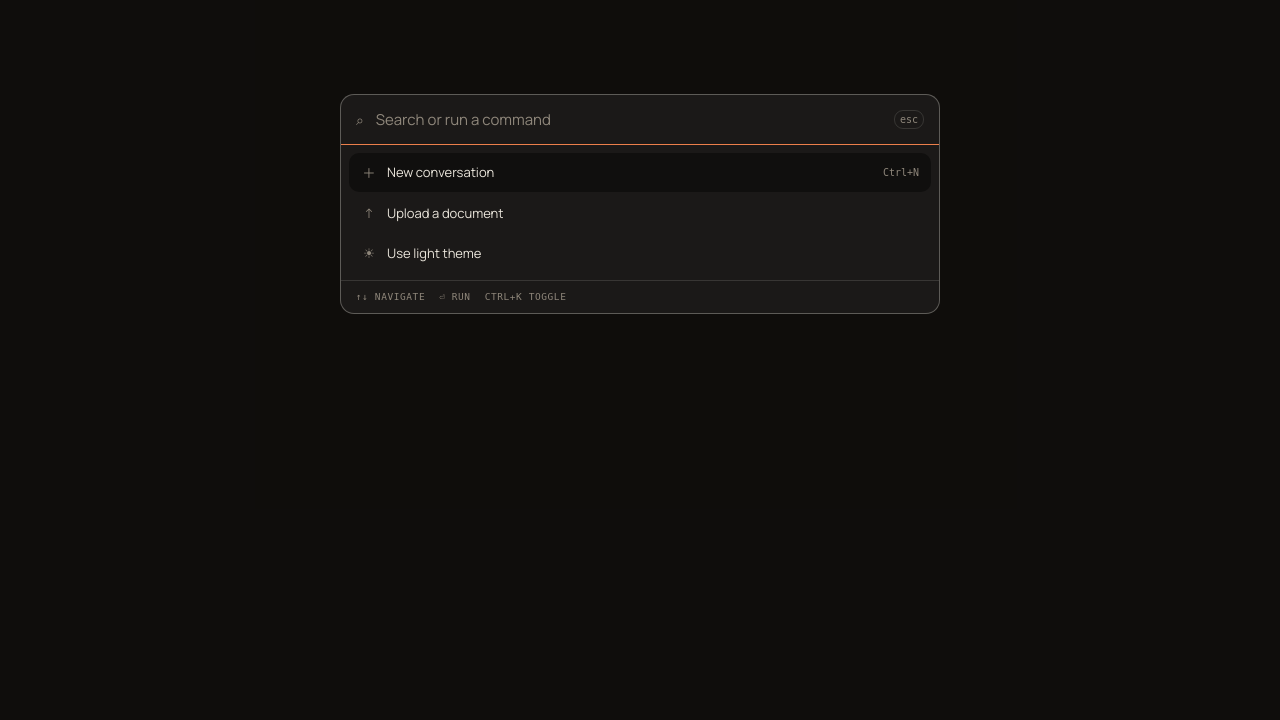
Scenario: CommandPalette › shows an empty state when nothing matches
Step 1. Type "zzzz" into the dropdown with test id "palette-input" → (629, 119), box [374, 108, 884, 131]
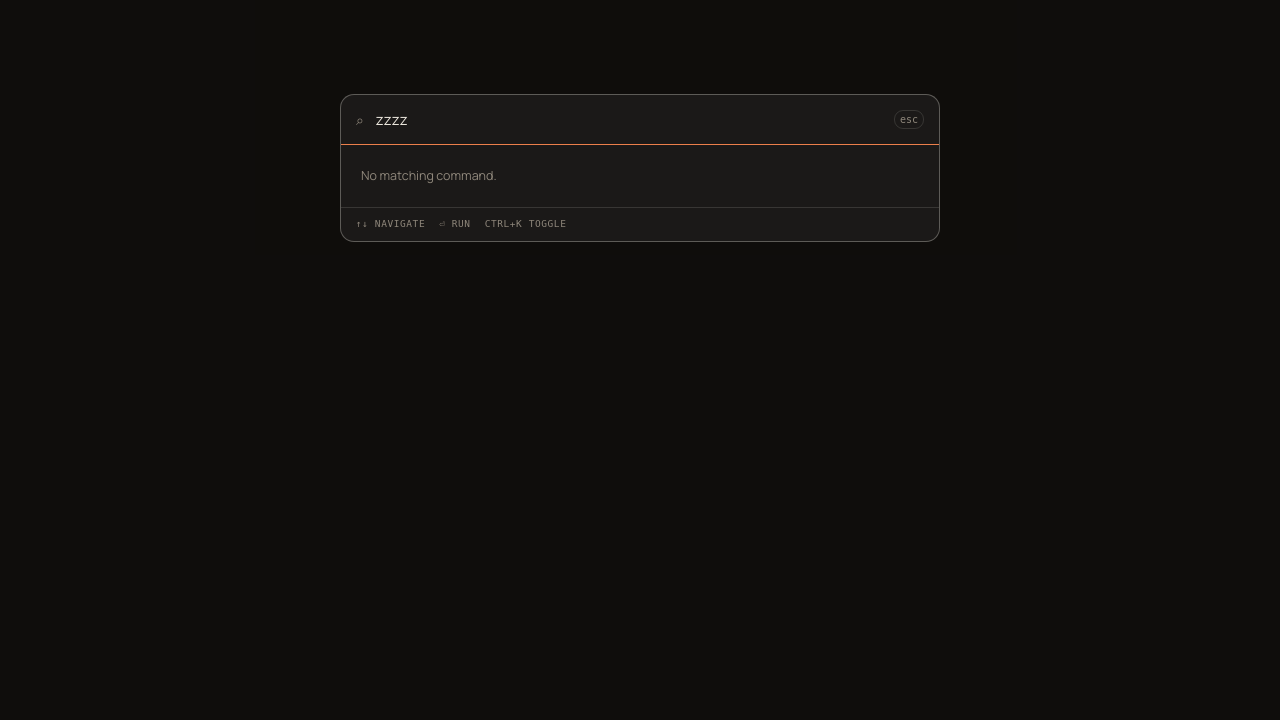
Now the list item with test id "palette-empty" is shown, box [361, 167, 497, 184]
